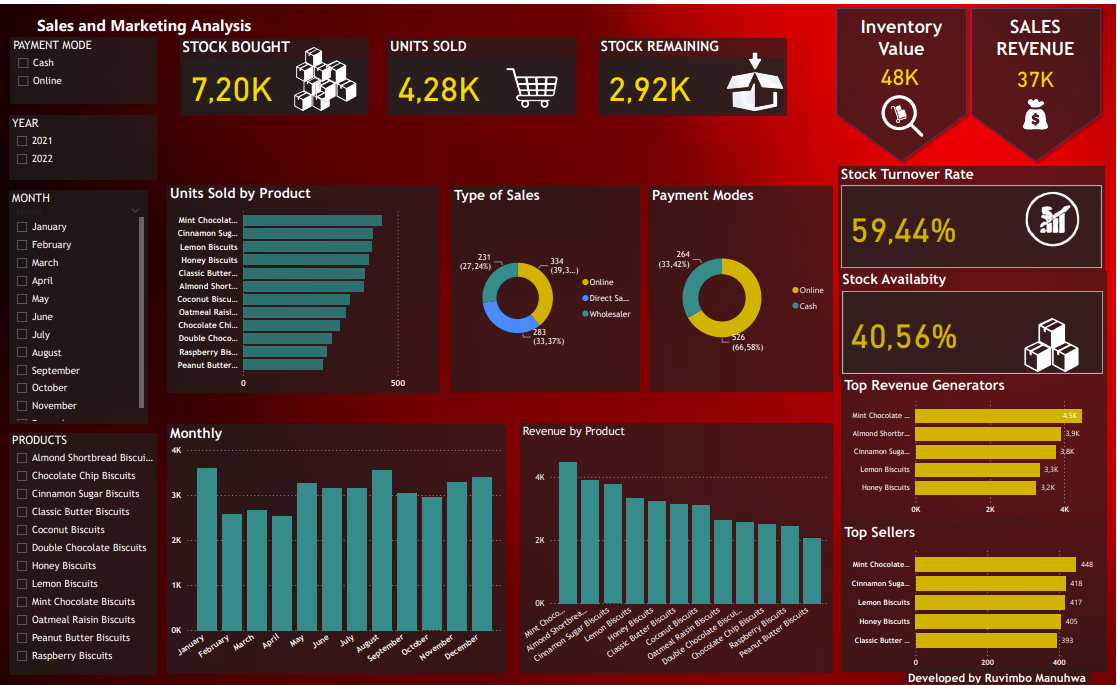

Layout of this report page (visuals, bound fields, positions):
{"tool":"powerbi","page":{"name":"Page 1","canvas":[1800,1100],"ordinal":0},"visuals":[{"type":"textbox","title":"Sales and Marketing Analysis","box":[54.8,15.1,752.1,37.8],"z":0},{"type":"cardVisual","title":"STOCK BOUGHT","fields":{"Data":["SalesData.TotalStock"]},"box":[290.3,53.4,305.2,125.9],"z":1000},{"type":"slicer","title":"PRODUCTS","fields":{"Values":["StockData.PRODUCT NAME"]},"box":[14.9,692,238.5,389.7],"z":2000},{"type":"slicer","title":"YEAR","fields":{"Values":["SalesData.DATE.Variation.Date Hierarchy.Year"]},"box":[14.9,178.9,238.5,104.3],"z":3000},{"type":"slicer","title":"MONTH","fields":{"Values":["SalesData.DATE.Variation.Date Hierarchy.Month"]},"box":[14.9,300.2,223.6,376.9],"z":4000},{"type":"slicer","title":"PAYMENT MODE","fields":{"Values":["SalesData.PAYMENT MODE"]},"box":[17,53.2,236.4,106.5],"z":5000},{"type":"cardVisual","title":"UNITS SOLD","fields":{"Data":["SalesData.TotalUnitsSold"]},"box":[625.4,53.4,305.2,125.9],"z":6000},{"type":"shape","title":"Sales Revenue","box":[1560.8,0,221.5,259.8],"z":7000},{"type":"card","fields":{"Values":["SalesData.SalesRevenue"]},"box":[1597,70.3,149.1,93.7],"z":8000},{"type":"shape","title":"Sales Revenue","box":[1343.6,0,223.6,259.8],"z":9000},{"type":"image","box":[1403.2,138.4,106.5,83],"z":10000},{"type":"card","fields":{"Values":["SalesData.InventoryValue"]},"box":[1343.6,38.3,217.2,151.2],"z":11000},{"type":"image","box":[751.3,51.2,213.4,166.5],"z":12000},{"type":"cardVisual","title":"STOCK REMAINING","fields":{"Data":["SalesData.RemainingStock"]},"box":[964.7,53.4,305.2,125.9],"z":13000},{"type":"image","box":[1152.6,59.8,132.3,130.2],"z":14000},{"type":"image","box":[464.2,106.5,78.8,72.4],"z":15000},{"type":"clusteredBarChart","title":"Units Sold by Product","fields":{"Category":["SalesSummary.PRODUCT NAME"],"Y":["SalesSummary.Totals"]},"box":[270.4,291.7,438.6,336.4],"z":16000},{"type":"donutChart","title":"Type of Sales","fields":{"Category":["SaleTypeSummary.SALE TYPE"],"Y":["SaleTypeSummary.Totals"]},"box":[728.2,293.9,304.5,332.2],"z":17000},{"type":"donutChart","title":"Payment Modes","fields":{"Category":["PaymentModeSummary.PAYMENT MODE"],"Y":["PaymentModeSummary.Totals"]},"box":[1047.6,293.9,296,332.2],"z":18000},{"type":"lineStackedColumnComboChart","title":"Monthly","fields":{"Category":["SalesData.DATE.Variation.Date Hierarchy.Month"],"Y":["SalesData.SALE WORTH"]},"box":[270.4,679.3,545.1,402.4],"z":19000},{"type":"columnChart","title":"Revenue by Product","fields":{"Category":["ProductRevenueSummary.PRODUCT NAME"],"Y":["ProductRevenueSummary.Totals"]},"box":[839,677.1,504.7,402.4],"z":20000},{"type":"cardVisual","title":"Stock Turnover Rate","fields":{"Data":["PaymentModeSummary.StockTurnover"]},"box":[1352.7,260.4,430.5,170.1],"z":21000},{"type":"cardVisual","title":"Stock Availabity","fields":{"Data":["PaymentModeSummary.StockAvailabity"]},"box":[1355.3,430.5,430.5,170.1],"z":22000},{"type":"image","box":[1614,119.2,115,123.5],"z":23000},{"type":"image","box":[1647.7,281.7,101,127.6],"z":24000},{"type":"image","box":[1631.7,497,130.2,106.3],"z":25000},{"type":"image","box":[489.8,80.9,104.3,83],"z":26000},{"type":"image","box":[466.3,59.6,78.8,72.4],"z":27000},{"type":"clusteredBarChart","title":"Top Revenue Generators","fields":{"Category":["ProductRevenueSummary.PRODUCT NAME"],"Y":["ProductRevenueSummary.Totals"]},"box":[1358,600.6,427.9,239.2],"z":28001},{"type":"clusteredBarChart","title":"Top Sellers","fields":{"Category":["SalesSummary.PRODUCT NAME"],"Y":["SalesSummary.Totals"]},"box":[1358,839.8,427.9,239.2],"z":28002},{"type":"textbox","title":"Developed by Ruvimbo Manuhwa","box":[1460.5,1076.3,300,23.7],"z":28003}]}

Visuals, with their boxes in screenshot pixels (x1, y1, x2, y2), scaled from the page's 1800x1100 canvas onto the 1117x685 screenshot:
"Sales and Marketing Analysis" textbox: [34,9,501,33]
"STOCK BOUGHT" cardVisual: [180,33,370,112]
"PRODUCTS" slicer: [9,431,157,674]
"YEAR" slicer: [9,111,157,176]
"MONTH" slicer: [9,187,148,422]
"PAYMENT MODE" slicer: [11,33,157,99]
"UNITS SOLD" cardVisual: [388,33,577,112]
"Sales Revenue" shape: [969,0,1106,162]
card - SalesData.SalesRevenue: [991,44,1084,102]
"Sales Revenue" shape: [834,0,973,162]
image: [871,86,937,138]
card - SalesData.InventoryValue: [834,24,969,118]
image: [466,32,599,136]
"STOCK REMAINING" cardVisual: [599,33,788,112]
image: [715,37,797,118]
image: [288,66,337,111]
"Units Sold by Product" clusteredBarChart: [168,182,440,391]
"Type of Sales" donutChart: [452,183,641,390]
"Payment Modes" donutChart: [650,183,834,390]
"Monthly" lineStackedColumnComboChart: [168,423,506,674]
"Revenue by Product" columnChart: [521,422,834,672]
"Stock Turnover Rate" cardVisual: [839,162,1107,268]
"Stock Availabity" cardVisual: [841,268,1108,374]
image: [1002,74,1073,151]
image: [1022,175,1085,255]
image: [1013,309,1093,376]
image: [304,50,369,102]
image: [289,37,338,82]
"Top Revenue Generators" clusteredBarChart: [843,374,1108,523]
"Top Sellers" clusteredBarChart: [843,523,1108,672]
"Developed by Ruvimbo Manuhwa" textbox: [906,670,1092,684]
